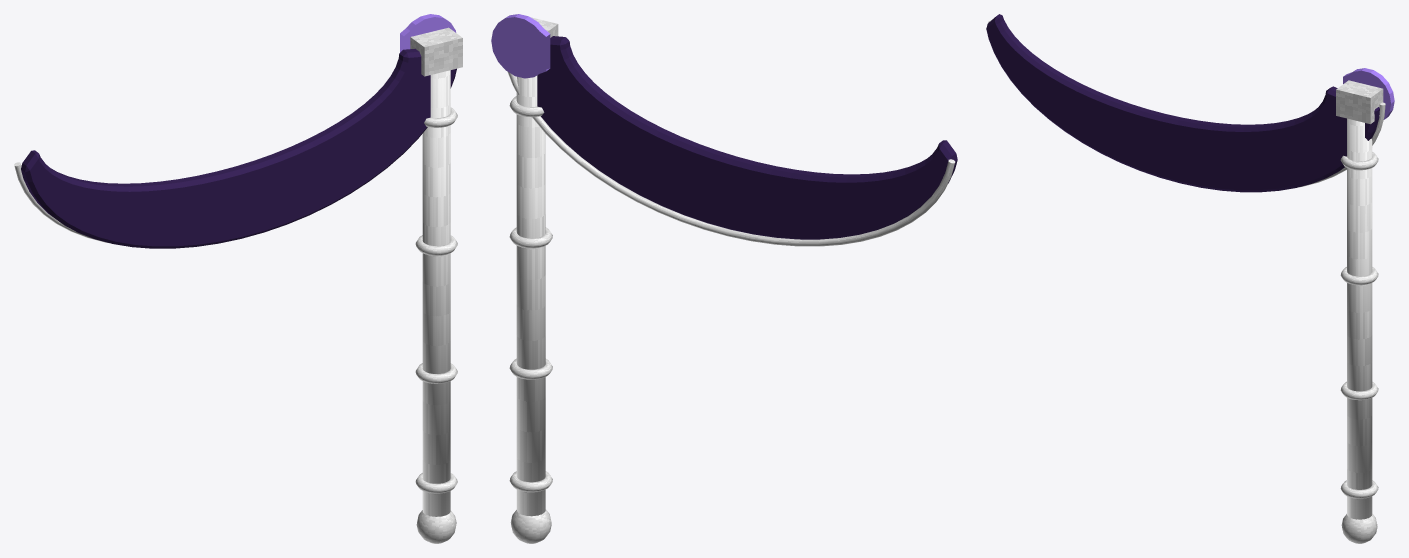
File: darkness.obj
3 renders of one model, left to right at view 1: azimuth 30°, elevation 25°; view 2: azimuth 150°, elevation 25°; view 3: azimuth 330°, elevation 25°, orthographic. The views are drawn at different scales.
Size of the model in its own units: 0.8539 by 0.95 by 0.072.
